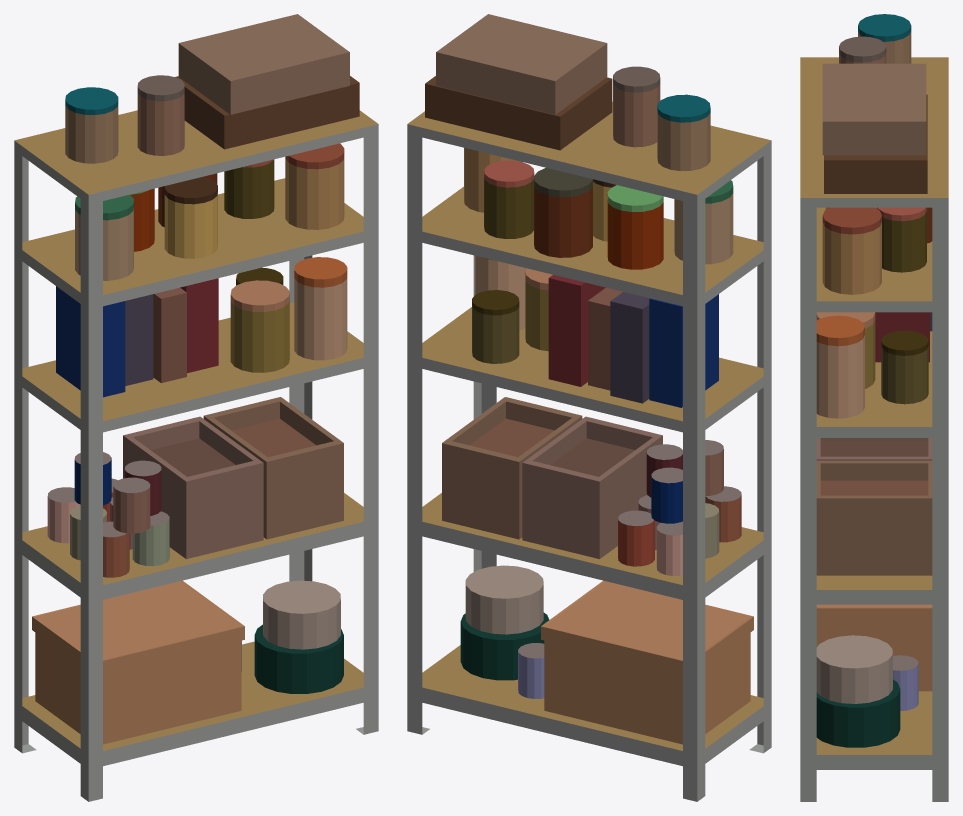
Rendered from mathylla1.glb.
The picture shows the model from 3 angles, left to right: view 1: azimuth 30°, elevation 25°; view 2: azimuth 150°, elevation 25°; view 3: azimuth 270°, elevation 25°; orthographic projection.
Visible parts, largest first — view 1: Cube, Cube.007, Cube.009, Cube.005, Cube.008, Cube.006, Cylinder.006, Cylinder.007, Cylinder.022, Cylinder.004, Cube.004, Cylinder.021 (+15 smaller); view 2: Cube, Cube.007, Cube.009, Cube.005, Cube.008, Cube.006, Cylinder.022, Cylinder.005, Cube.004, Cylinder.001, Cube.001, Cube.003 (+19 smaller); view 3: Cube, Cube.008, Cube.005, Cube.007, Cylinder.004, Cylinder.006, Cylinder.022, Cube.006, Cylinder.021, Cylinder.008, Cylinder.002, Cube.009 (+5 smaller).
Boxes of the visible parts, x1=… form: Cube: x1=14, y1=110, x2=378, y2=801; Cube.007: x1=32, y1=580, x2=244, y2=744; Cube.009: x1=123, y1=416, x2=263, y2=559; Cube.005: x1=178, y1=14, x2=349, y2=114; Cube.008: x1=203, y1=397, x2=343, y2=539; Cube.006: x1=175, y1=76, x2=359, y2=149; Cylinder.006: x1=294, y1=257, x2=347, y2=360; Cylinder.007: x1=230, y1=280, x2=289, y2=372; Cylinder.022: x1=263, y1=580, x2=340, y2=649; Cylinder.004: x1=285, y1=143, x2=344, y2=229; Cube.004: x1=56, y1=286, x2=125, y2=397; Cylinder.021: x1=254, y1=624, x2=343, y2=693; Cube: x1=407, y1=101, x2=771, y2=801; Cube.007: x1=541, y1=580, x2=753, y2=744; Cube.009: x1=522, y1=416, x2=662, y2=559; Cube.005: x1=436, y1=14, x2=607, y2=114; Cube.008: x1=442, y1=397, x2=582, y2=539; Cube.006: x1=425, y1=76, x2=612, y2=150; Cylinder.022: x1=465, y1=565, x2=543, y2=634; Cylinder.005: x1=534, y1=168, x2=592, y2=257; Cube.004: x1=649, y1=294, x2=718, y2=407; Cylinder.001: x1=607, y1=185, x2=663, y2=269; Cube.001: x1=548, y1=274, x2=605, y2=386; Cube.003: x1=610, y1=292, x2=649, y2=403; Cube: x1=800, y1=57, x2=948, y2=801; Cube.008: x1=816, y1=460, x2=932, y2=575; Cube.005: x1=822, y1=63, x2=926, y2=155; Cube.007: x1=816, y1=604, x2=932, y2=691; Cylinder.004: x1=822, y1=207, x2=881, y2=294; Cylinder.006: x1=816, y1=315, x2=864, y2=418; Cylinder.022: x1=816, y1=635, x2=892, y2=703; Cube.006: x1=824, y1=94, x2=927, y2=193; Cylinder.021: x1=816, y1=679, x2=900, y2=747; Cylinder.008: x1=881, y1=330, x2=928, y2=404; Cylinder.002: x1=876, y1=207, x2=926, y2=272; Cube.009: x1=816, y1=438, x2=932, y2=460.
Size of the model in its own units: 0.9 by 2 by 0.4.
